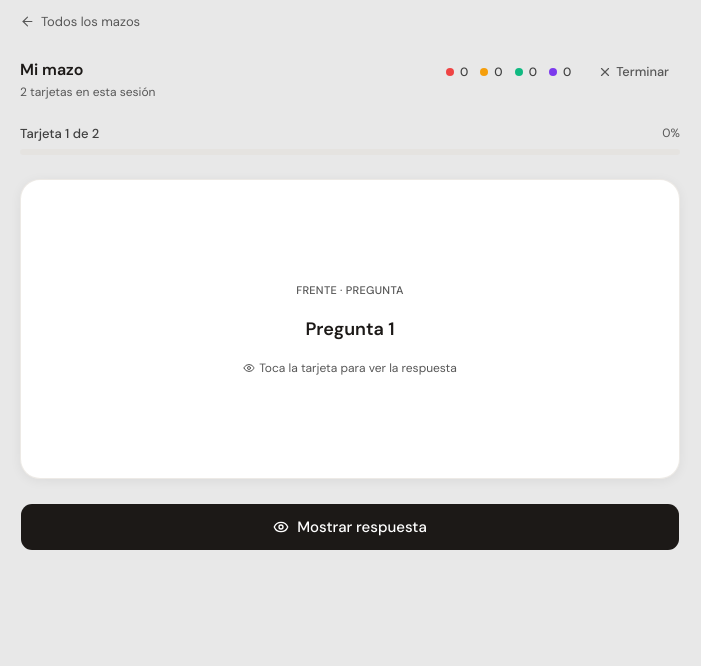
FlashcardPlayer › graded session (onRate/onFinish/onExit) › keeps the card and shows an alert when the grade fails
The width and height of the screenshot is (701, 666).
Click the button with test id "flip-card".
click(350, 329)  # box [20,179,680,479]
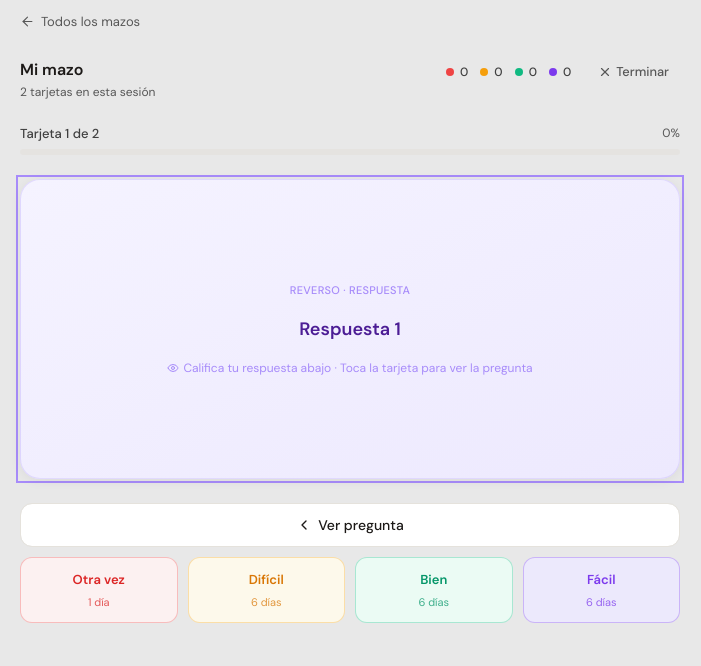
Click the button with test id "rate-good".
click(434, 590)  # box [355,557,512,623]
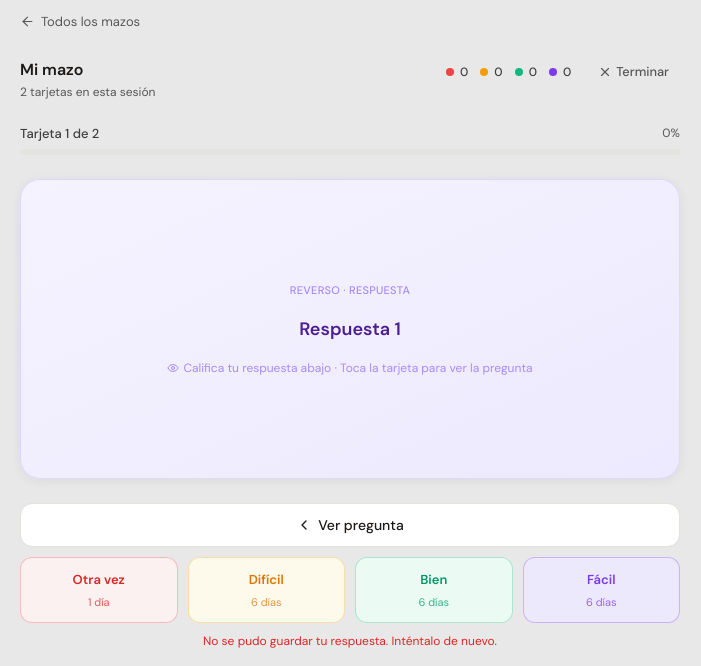
Expected: the text "Tarjeta 1 de 2" is shown, [20,124,99,143]
Expected: the button with test id "rate-good" is enabled, [355,557,512,623]
Expected: the message reads "No se pudo guardar tu respuesta. Inténtalo de nuevo.", [203,633,497,649]
